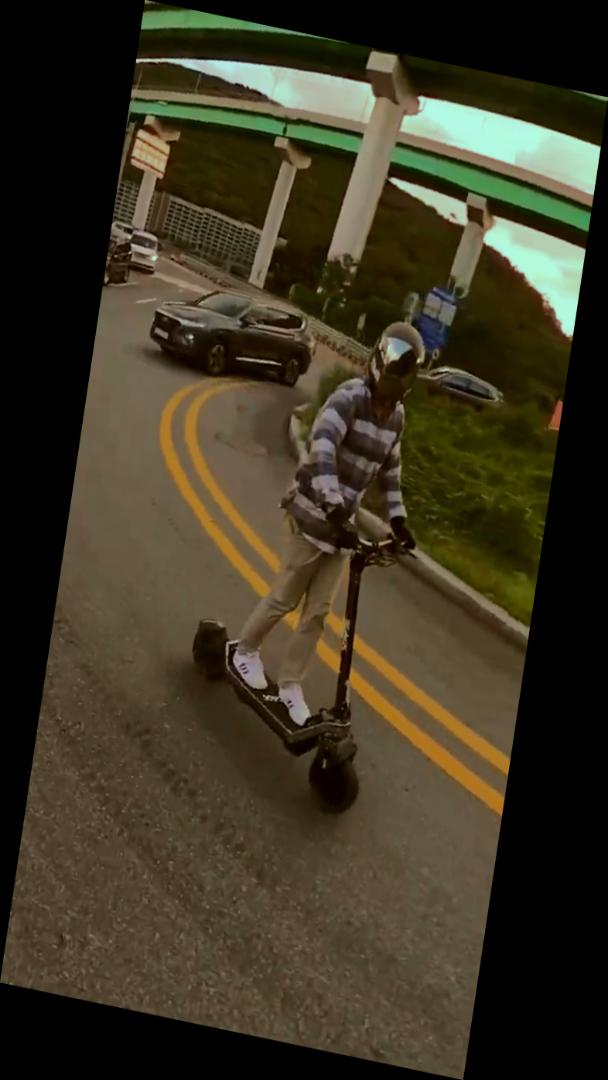helmet: (170, 286, 454, 831)
